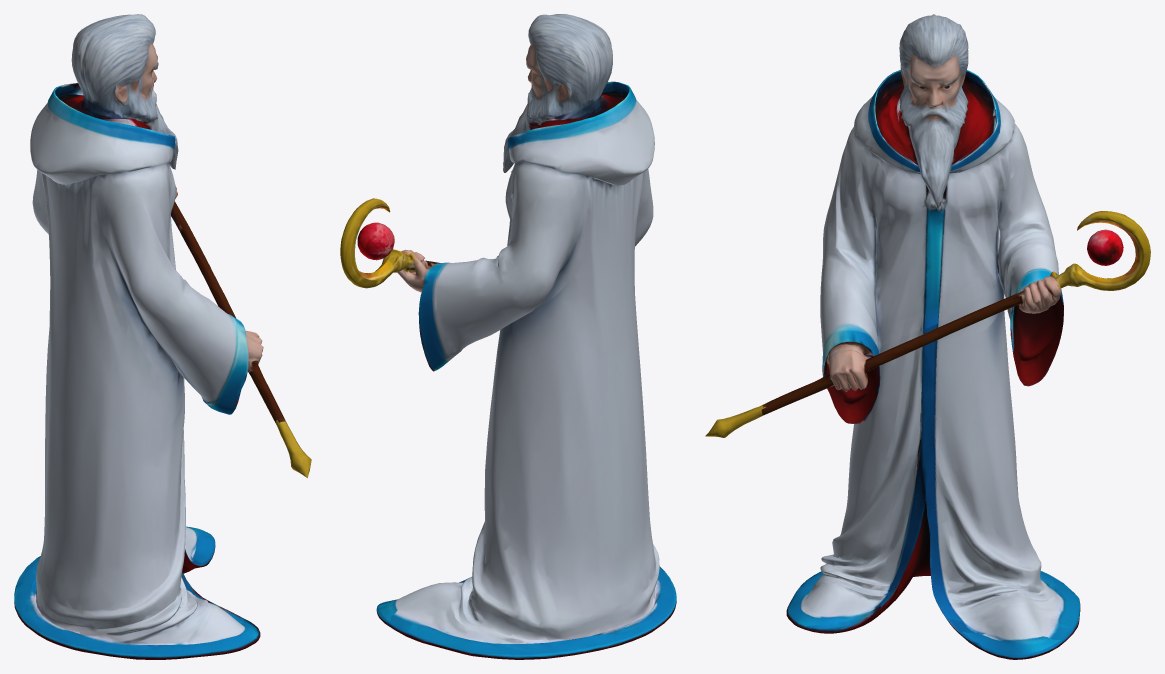
Rendered from HuxleyF.fbx.
3 renders of one model, left to right at view 1: azimuth 30°, elevation 25°; view 2: azimuth 150°, elevation 25°; view 3: azimuth 270°, elevation 25°, orthographic. The views are drawn at different scales.
Visible parts, largest first — view 1: tripo_node_13d97bc1; view 2: tripo_node_13d97bc1; view 3: tripo_node_13d97bc1.
Part boxes in pixels (box(x1,y1,x2,y2)): tripo_node_13d97bc1: box(14, 14, 311, 659); tripo_node_13d97bc1: box(340, 14, 676, 659); tripo_node_13d97bc1: box(705, 14, 1150, 659).
Size of the model in its own units: 0.4027 by 1 by 0.6975.
Materials: 1 (1 with a texture image).
